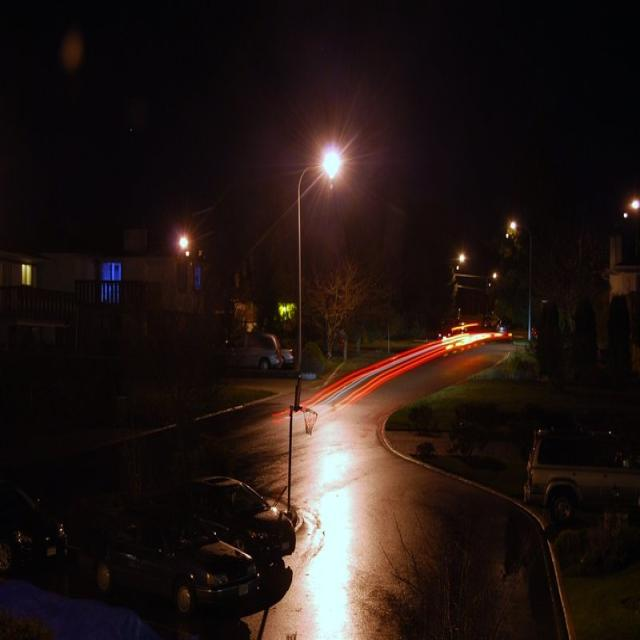Car: (74, 500, 257, 620), (522, 424, 640, 536)
